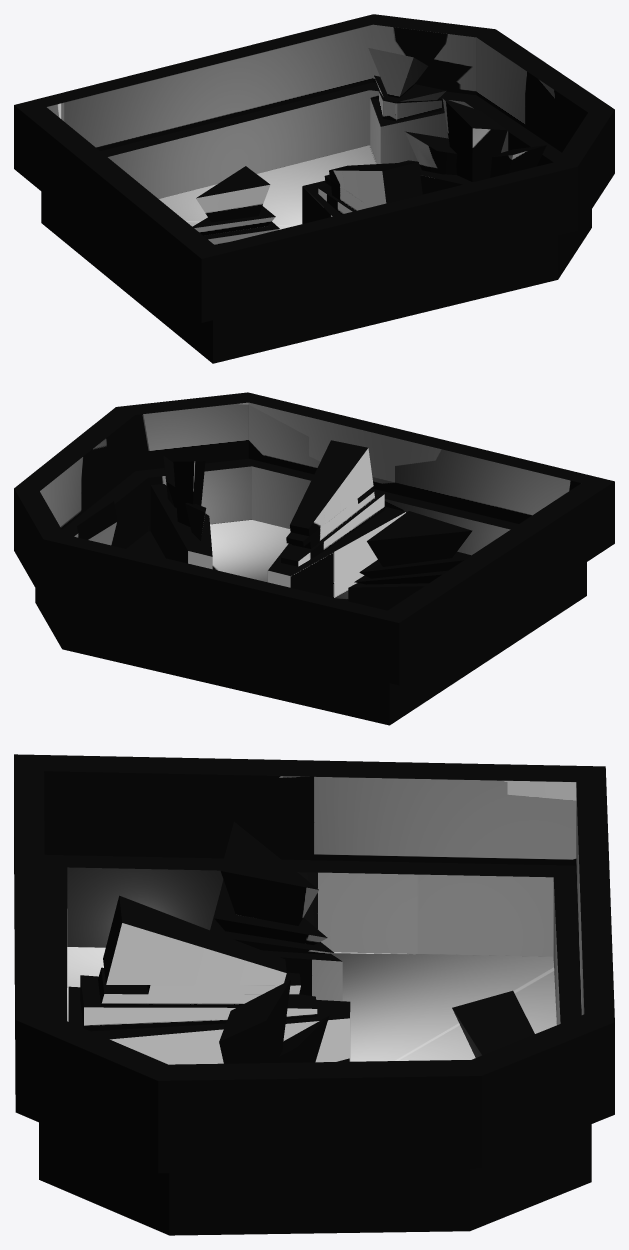
The model's file is level2_4.fbx.
3 views of the same model, one above another, from view 1: azimuth 30°, elevation 25°; view 2: azimuth 150°, elevation 25°; view 3: azimuth 270°, elevation 25° (orthographic). The views are drawn at different scales.
Visible parts, largest first — view 1: 2-4_upper_wall, 2-4_lower_wall, 2-4_pillar_magenta_top, 2-4_floor, 2-4_pillar_yellow_top, 2-4_pillar_red_top, 2-4_pillar_blue_top, 2-4_pillar_blue, 2-4_pillar_red, 2-4_pillar_magenta; view 2: 2-4_upper_wall, 2-4_lower_wall, 2-4_pillar_red_top, 2-4_pillar_yellow_top, 2-4_pillar_red, 2-4_floor, 2-4_pillar_magenta, 2-4_pillar_magenta_top, 2-4_pillar_yellow, 2-4_pillar_blue_top; view 3: 2-4_upper_wall, 2-4_lower_wall, 2-4_floor, 2-4_pillar_red_top, 2-4_pillar_yellow_top, 2-4_pillar_red, 2-4_pillar_magenta_top, 2-4_pillar_blue_top, 2-4_pillar_yellow.
Part boxes in pixels (x1,y1,x2,y2): 2-4_upper_wall: (14,14,614,322); 2-4_lower_wall: (41,82,591,363); 2-4_pillar_magenta_top: (404,98,546,181); 2-4_floor: (159,145,376,229); 2-4_pillar_yellow_top: (192,166,279,245); 2-4_pillar_red_top: (318,162,422,214); 2-4_pillar_blue_top: (368,48,446,121); 2-4_pillar_blue: (370,98,448,163); 2-4_pillar_red: (302,180,341,223); 2-4_pillar_magenta: (399,160,474,194); 2-4_upper_wall: (14,392,614,685); 2-4_lower_wall: (35,458,586,725); 2-4_pillar_red_top: (281,440,384,566); 2-4_pillar_yellow_top: (354,511,472,584); 2-4_pillar_red: (267,506,405,597); 2-4_floor: (126,520,348,601); 2-4_pillar_magenta: (150,484,212,569); 2-4_pillar_magenta_top: (163,455,206,540); 2-4_pillar_yellow: (348,583,428,610); 2-4_pillar_blue_top: (77,501,116,545); 2-4_upper_wall: (14,754,614,1173); 2-4_lower_wall: (39,854,591,1235); 2-4_floor: (67,947,556,1061); 2-4_pillar_red_top: (80,895,317,1031); 2-4_pillar_yellow_top: (210,821,334,954); 2-4_pillar_red: (68,986,350,1064); 2-4_pillar_magenta_top: (219,980,328,1063); 2-4_pillar_blue_top: (452,990,534,1057); 2-4_pillar_yellow: (262,950,342,1001).
Size of the model in its own units: 19.04 by 5.01 by 14.81.
11 materials, 11 textured.
